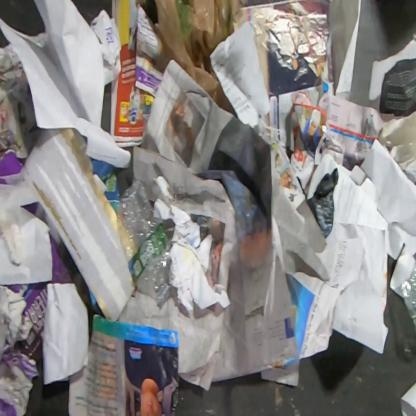cardboard: (0, 230, 77, 364), (0, 149, 25, 185), (381, 249, 388, 315)
rigid_plastic: (117, 180, 173, 310), (399, 248, 416, 350)
soft_plastic: (152, 0, 240, 117)
